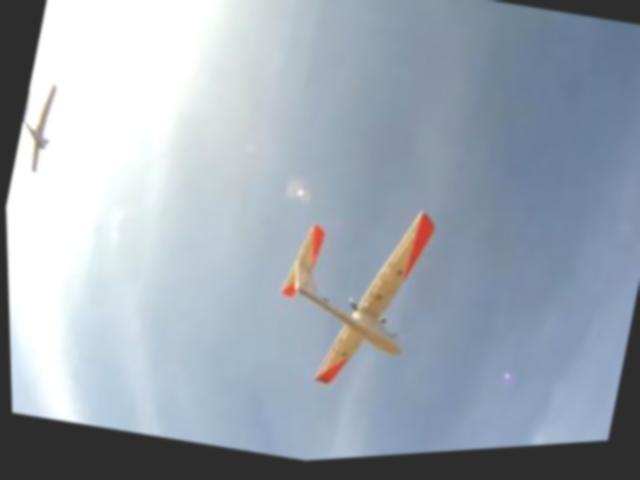uav: (243, 179, 449, 417), (9, 74, 70, 181)
